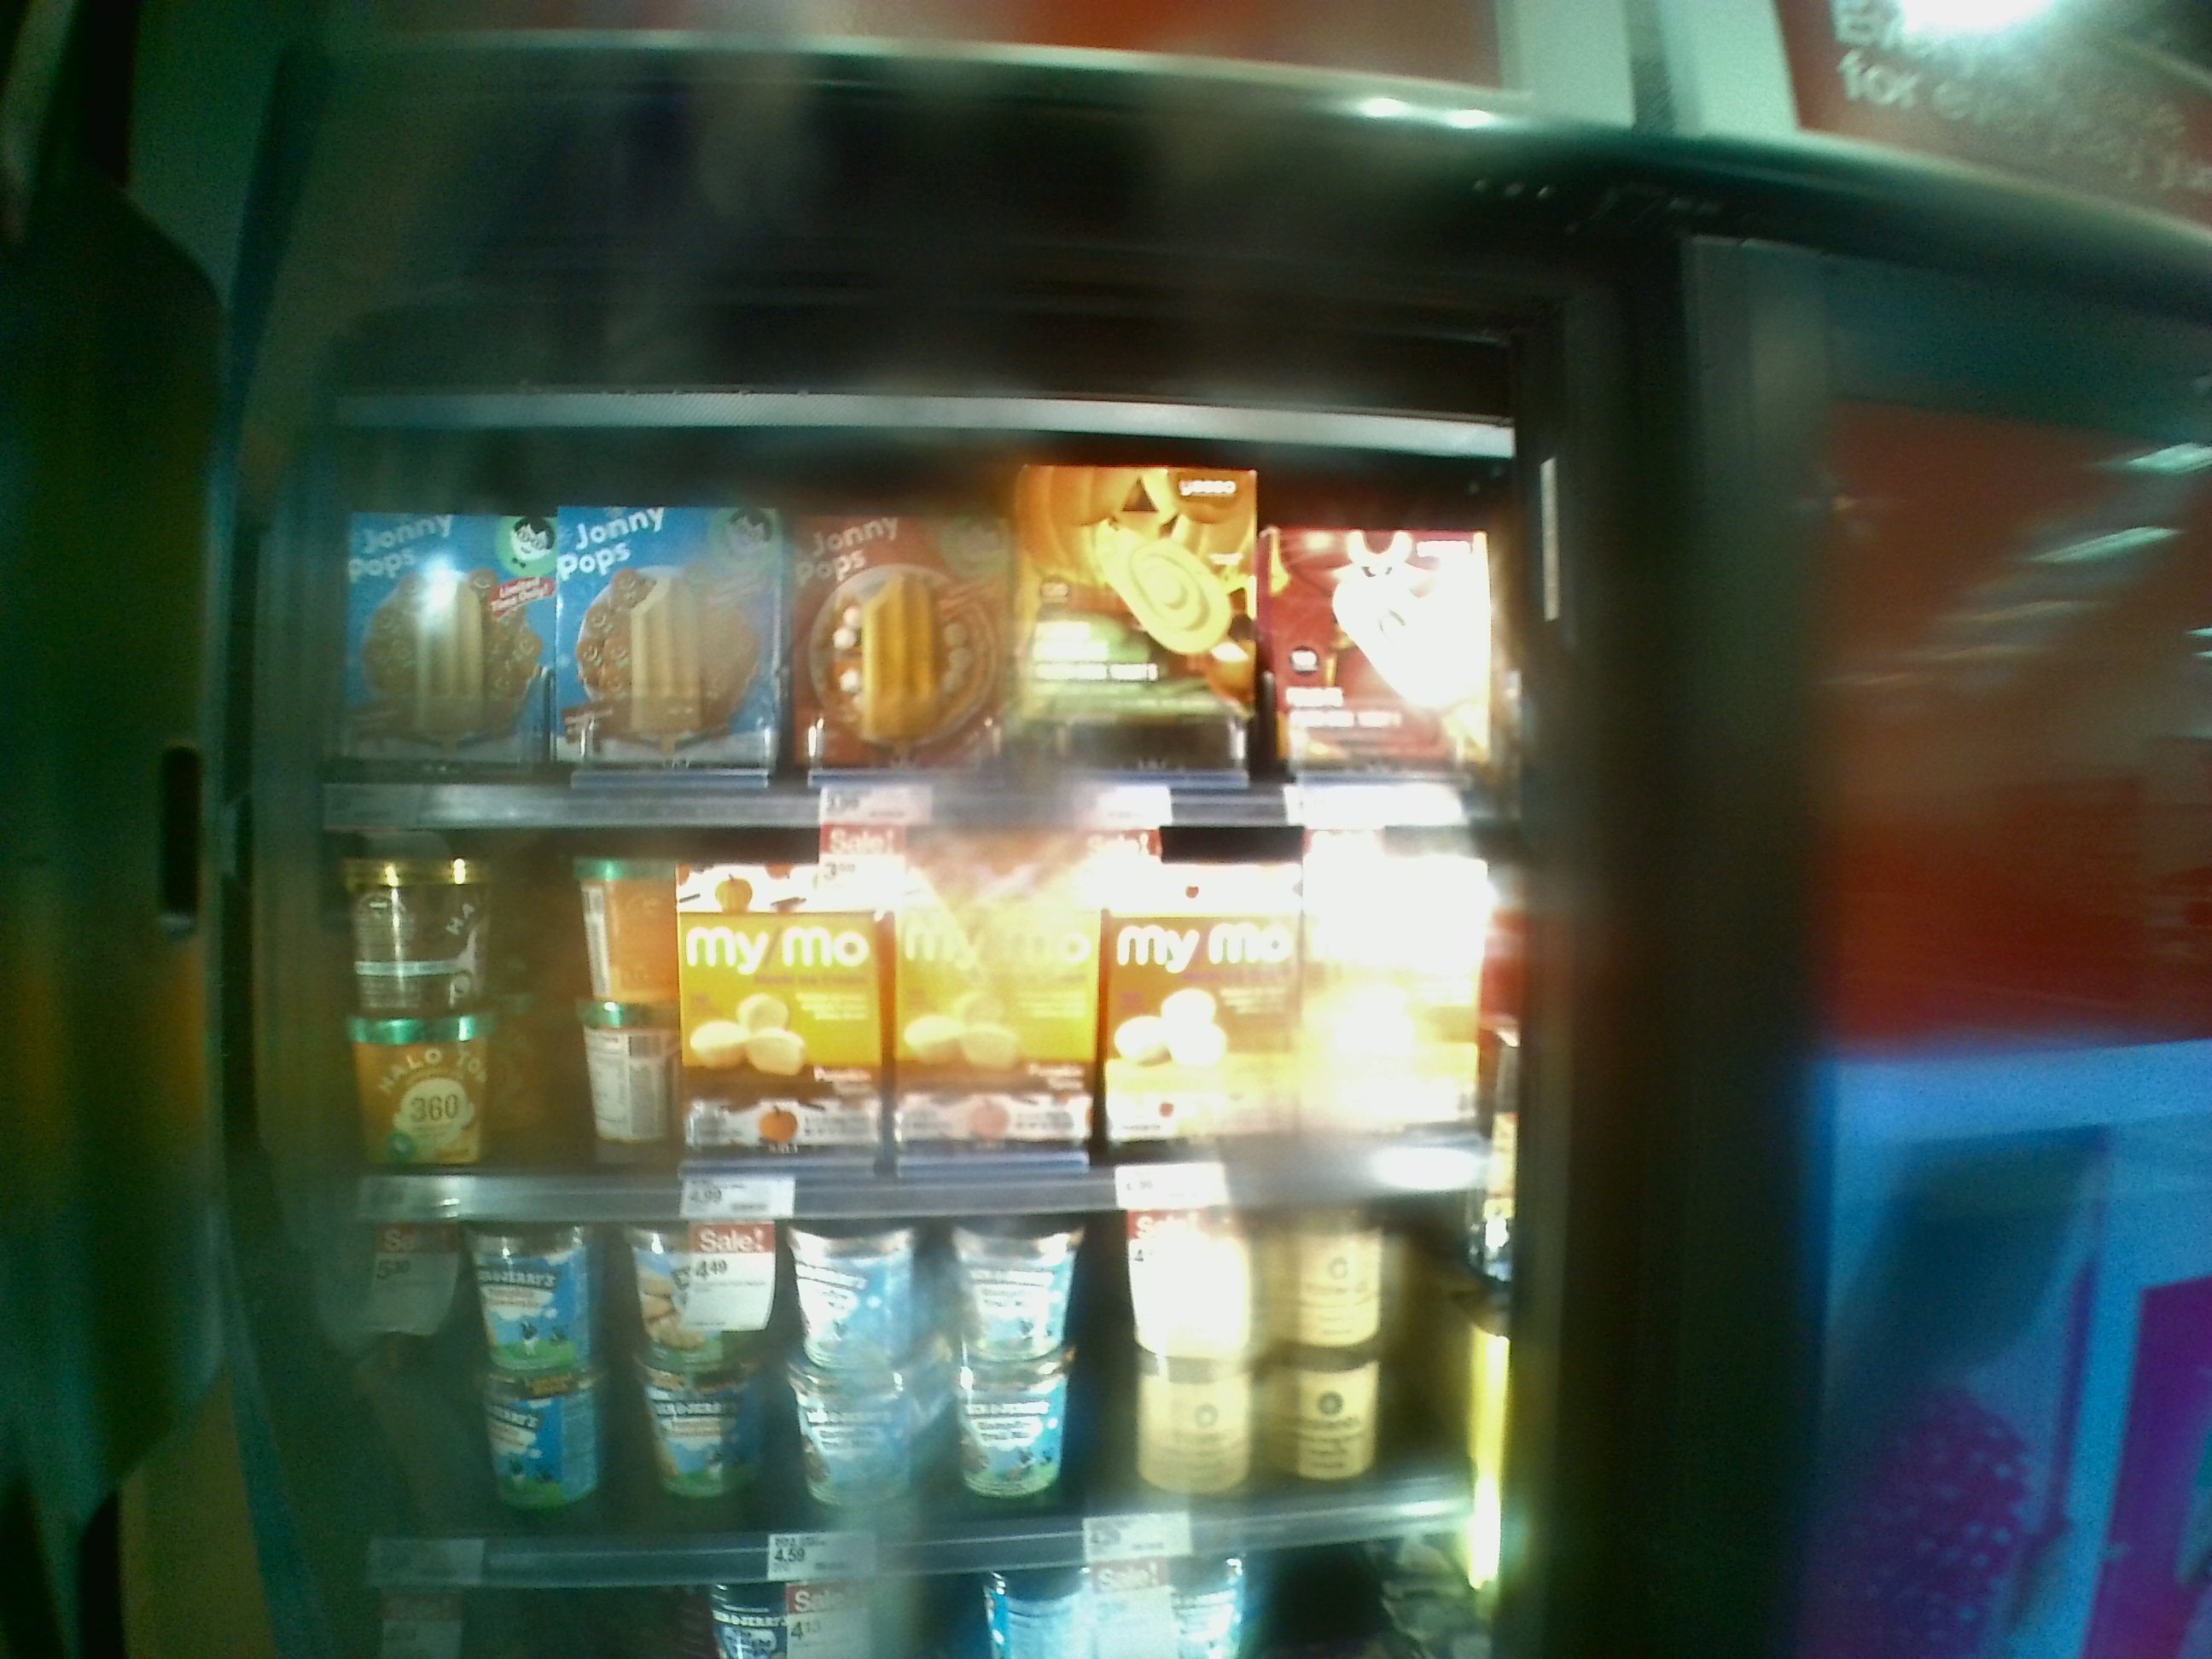shelf: (301, 422, 1524, 838), (275, 816, 1519, 1223), (289, 1187, 1512, 1551)
